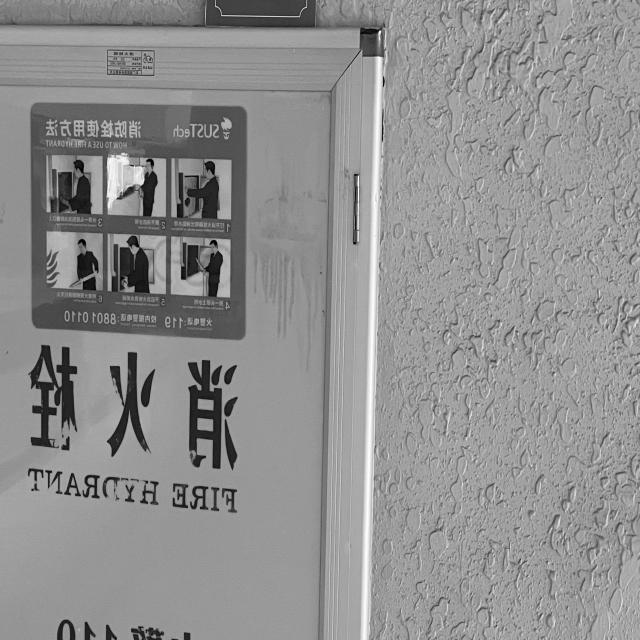Card: (192, 0, 326, 47)
